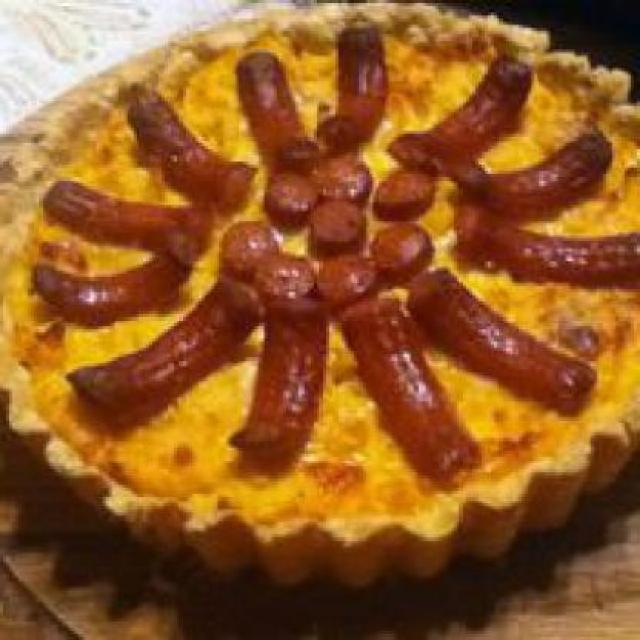hot dog: (34, 37, 600, 469)
macaroni and cheese: (25, 30, 637, 528)
